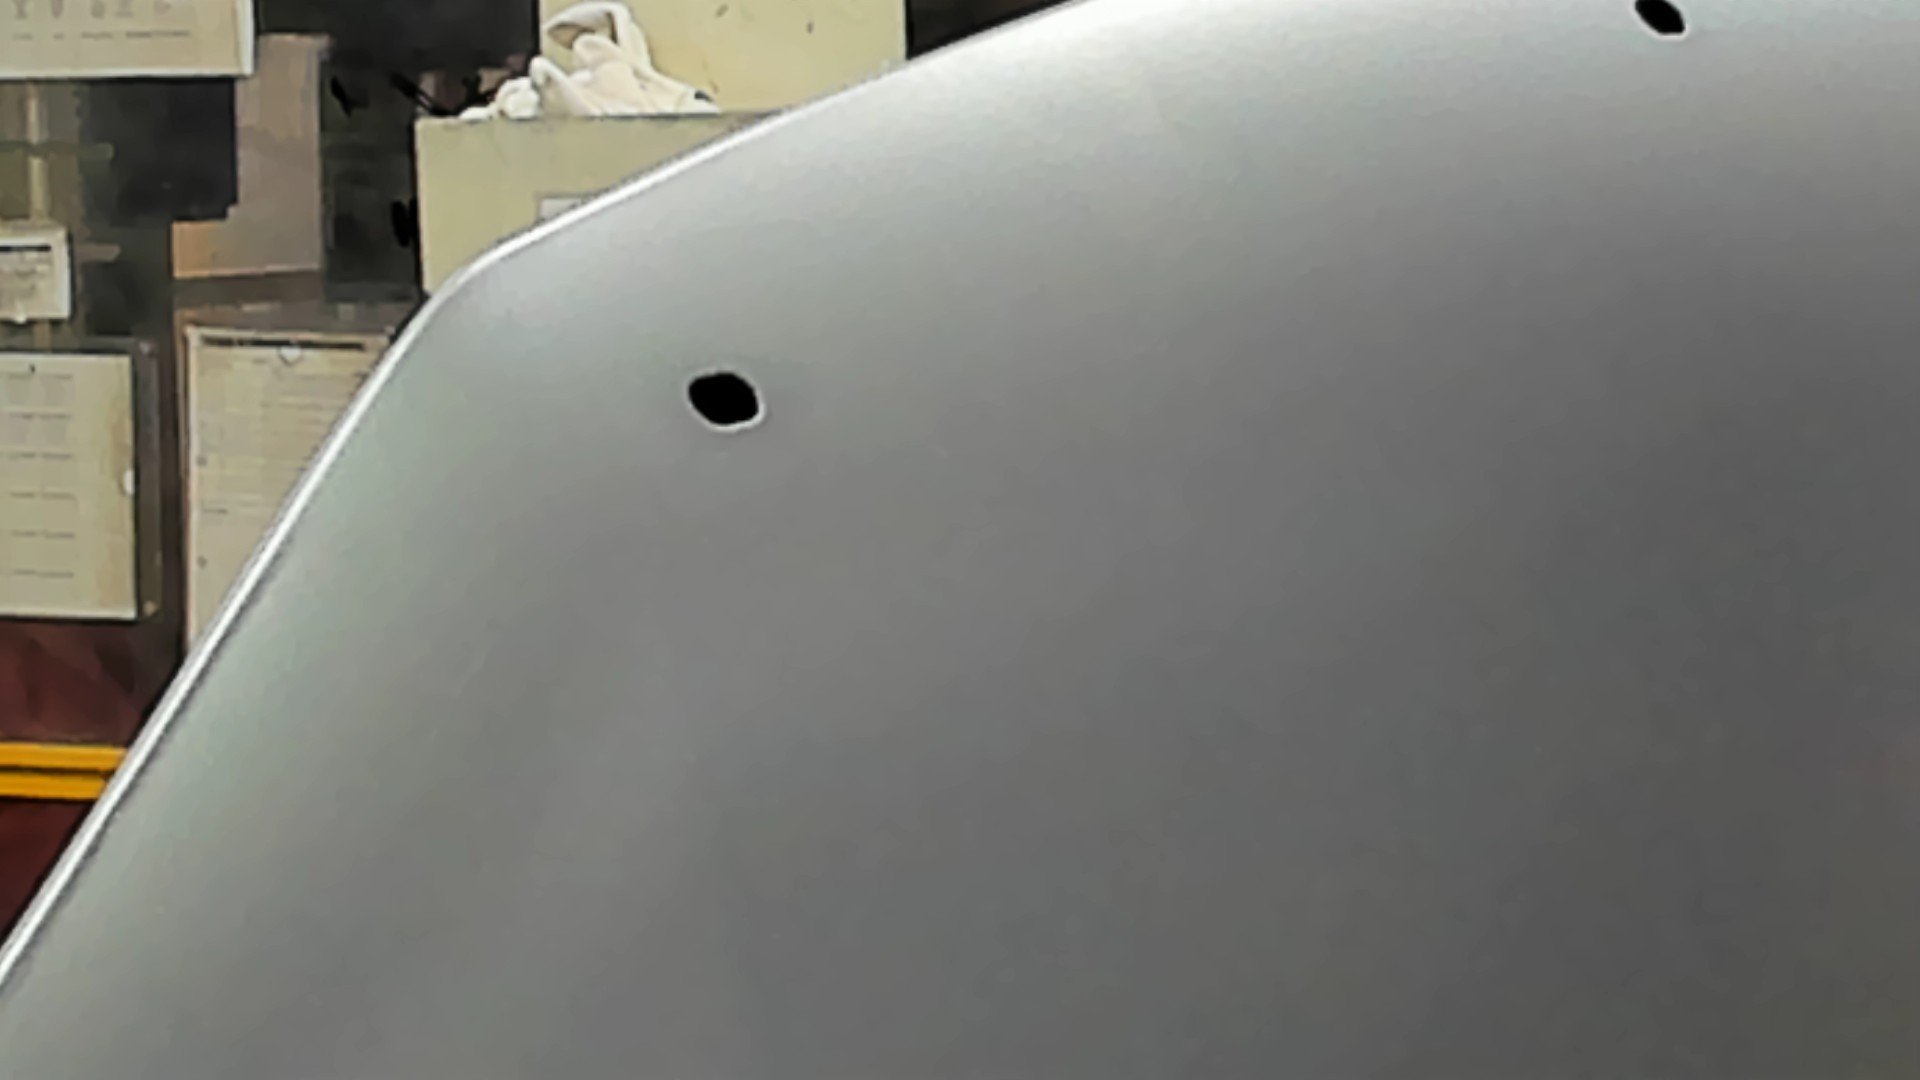amorfo: (680, 364, 771, 440), (1625, 1, 1693, 41)
